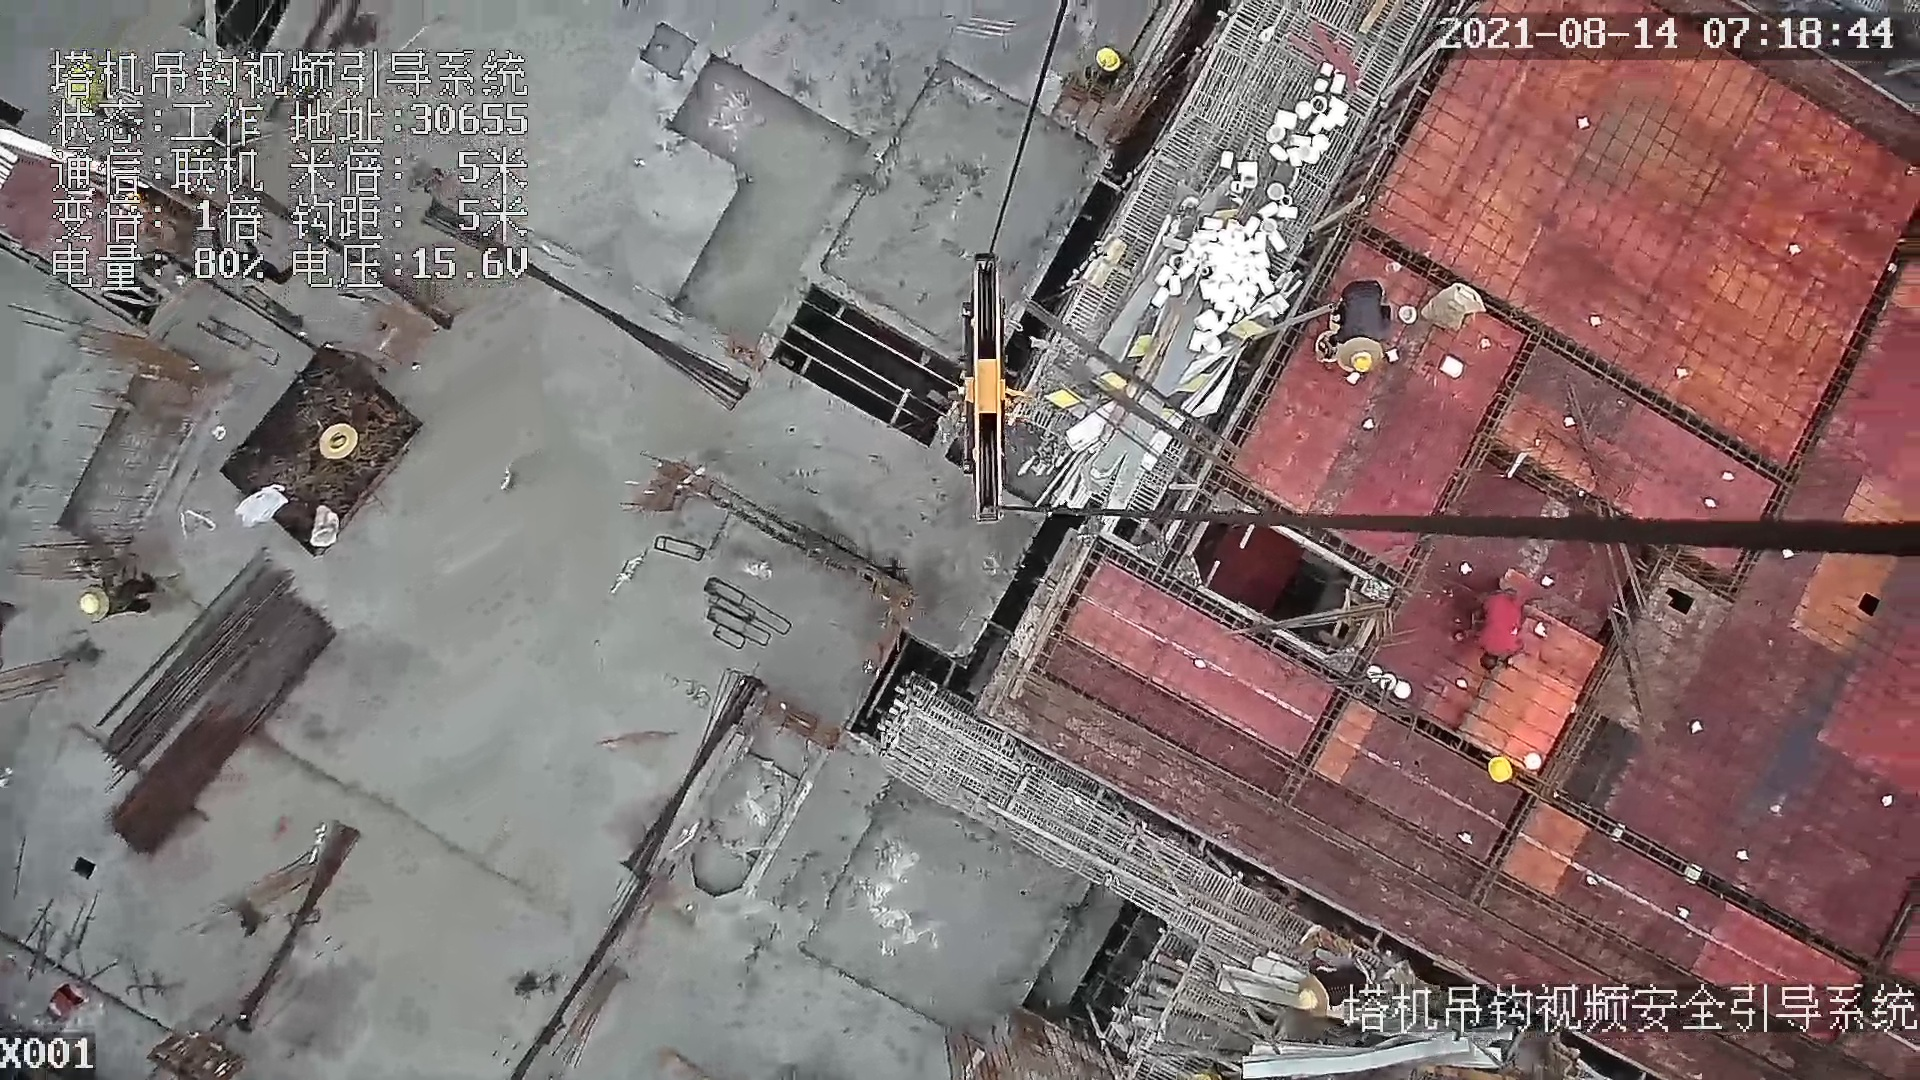helmet: (1480, 748, 1515, 786), (1091, 43, 1122, 71), (1352, 346, 1371, 380), (80, 594, 97, 616)
hook: (945, 244, 1036, 540)
person: (1329, 277, 1392, 378), (82, 569, 169, 626), (1478, 582, 1523, 674)
